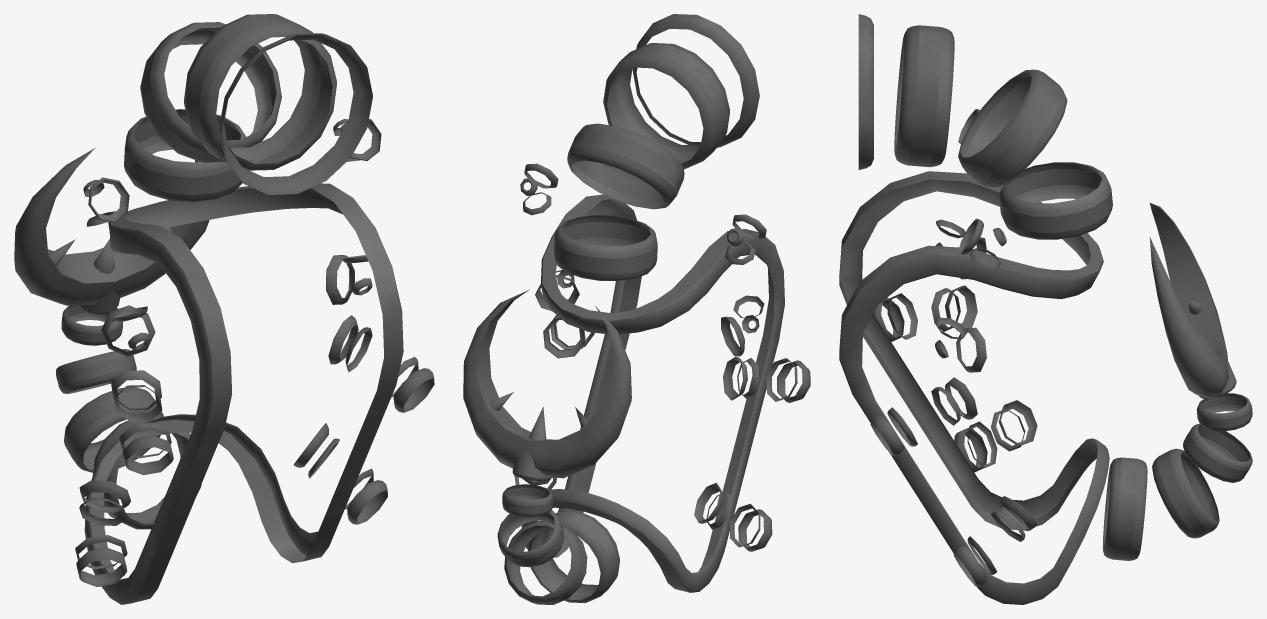
File: CollectorsVisionMetalMesh.obj
The picture shows the model from 3 angles, left to right: view 1: azimuth 30°, elevation 25°; view 2: azimuth 150°, elevation 25°; view 3: azimuth 270°, elevation 25°; orthographic projection. The views are drawn at different scales.
Visible parts, largest first — view 1: CollectorsVisionMetalMesh_Collector's_Vision_Metal; view 2: CollectorsVisionMetalMesh_Collector's_Vision_Metal; view 3: CollectorsVisionMetalMesh_Collector's_Vision_Metal.
Part boxes in pixels (box(x1,y1,x2,y2)): CollectorsVisionMetalMesh_Collector's_Vision_Metal: box(14, 14, 434, 604); CollectorsVisionMetalMesh_Collector's_Vision_Metal: box(463, 14, 810, 604); CollectorsVisionMetalMesh_Collector's_Vision_Metal: box(839, 14, 1252, 604).
Bounding box in the file's own units: 0.7695 × 1.44 × 0.9952.
Materials: 1 (1 with a texture image).
